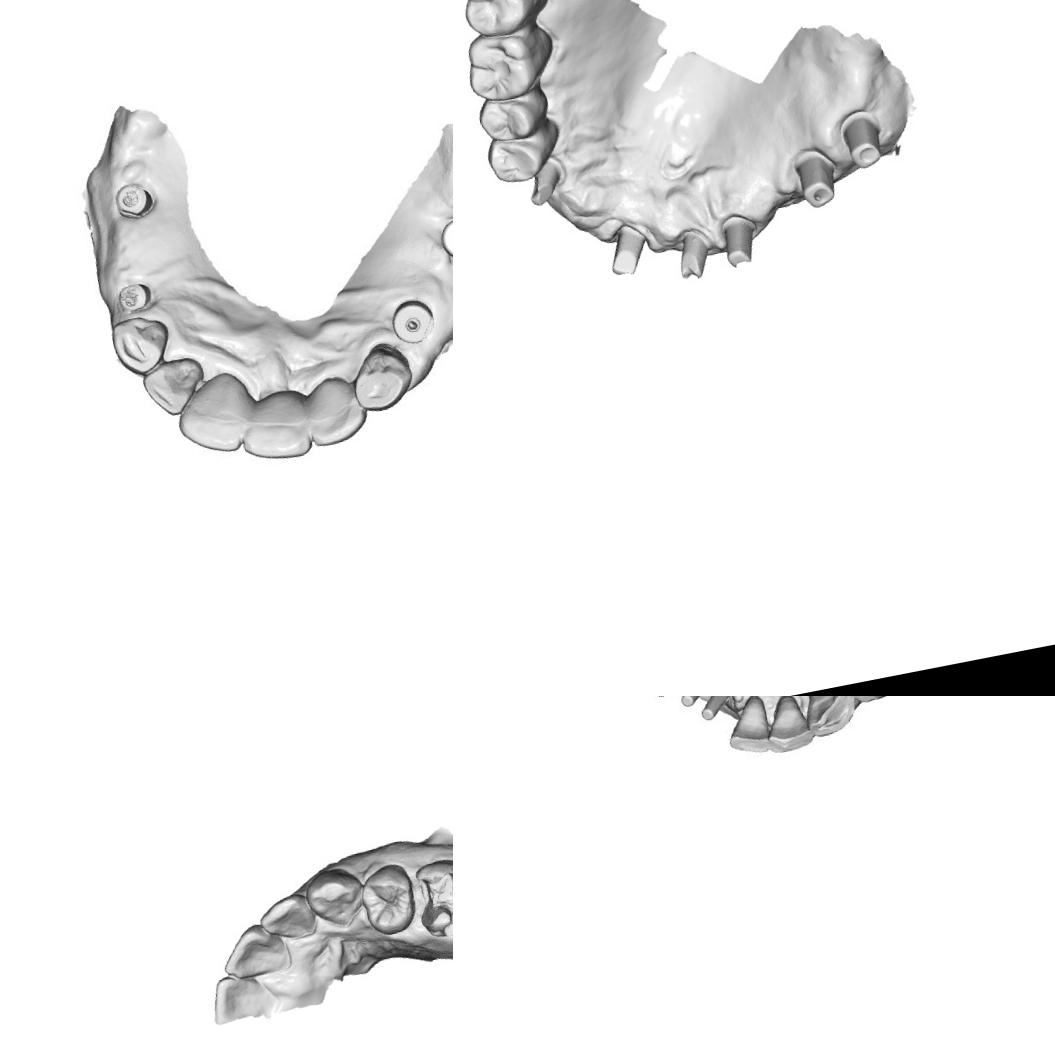abutment: (786, 142, 842, 213), (834, 104, 889, 172), (600, 216, 656, 282), (714, 208, 766, 272), (668, 224, 717, 284), (518, 153, 568, 210), (692, 696, 746, 729), (671, 696, 722, 710)
canine: (347, 337, 416, 417), (300, 862, 370, 932), (104, 311, 176, 379), (796, 696, 860, 741)
implant: (384, 294, 438, 346), (110, 178, 158, 221), (110, 278, 151, 318), (436, 212, 453, 264)
incisor: (164, 366, 260, 463), (232, 387, 318, 469), (299, 371, 370, 450), (216, 917, 294, 982), (137, 351, 209, 418), (205, 967, 276, 1026), (759, 696, 820, 761), (254, 889, 320, 945), (721, 696, 773, 760)
inlay: (414, 866, 453, 939)
molar: (458, 20, 562, 108), (453, 0, 556, 43)
premolar: (479, 120, 568, 189), (471, 84, 555, 148), (355, 858, 422, 938)
